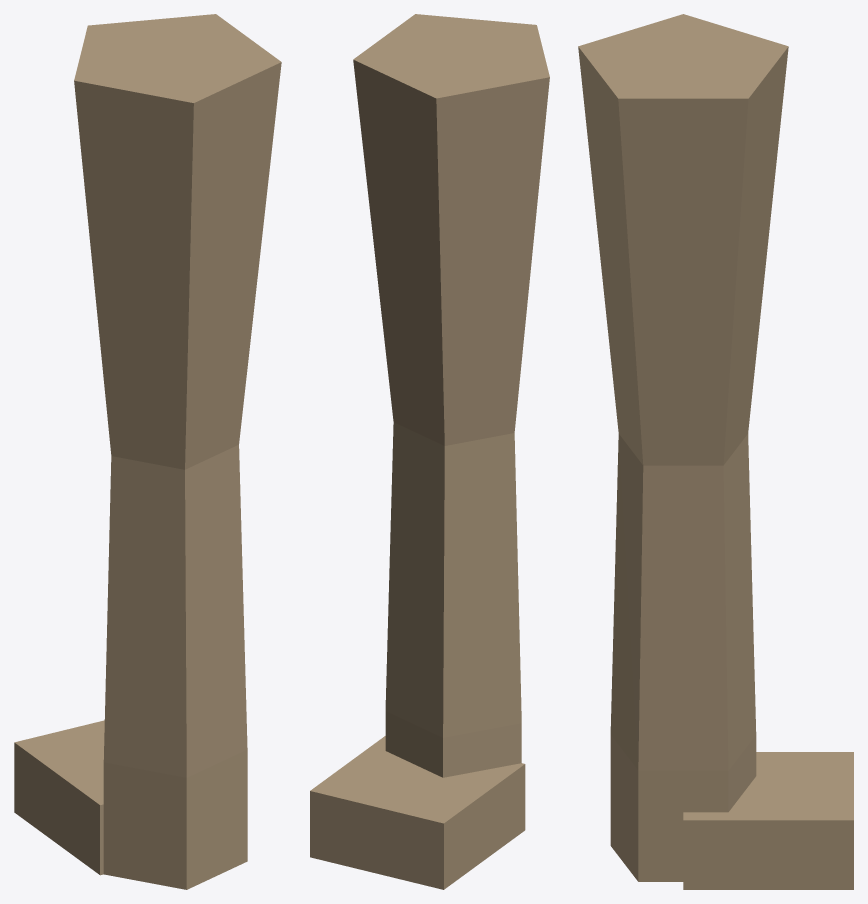
Rendered from animal_alpaca_leg.obj.
The picture shows the model from 3 angles, left to right: view 1: azimuth 30°, elevation 25°; view 2: azimuth 150°, elevation 25°; view 3: azimuth 270°, elevation 25°; orthographic projection. The views are drawn at different scales.
Visible parts, largest first — view 1: animal_alpaca_leg; view 2: animal_alpaca_leg; view 3: animal_alpaca_leg.
Boxes of the visible parts, bbox=[...] form: animal_alpaca_leg: bbox=[14, 14, 281, 889]; animal_alpaca_leg: bbox=[310, 14, 549, 889]; animal_alpaca_leg: bbox=[578, 14, 853, 889].
Size of the model in its own units: 0.1018 by 0.4457 by 0.1401.
